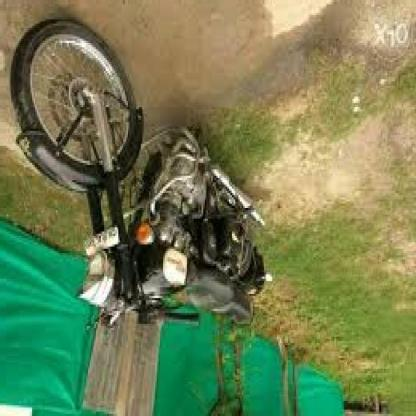bike: (8, 17, 267, 326)
